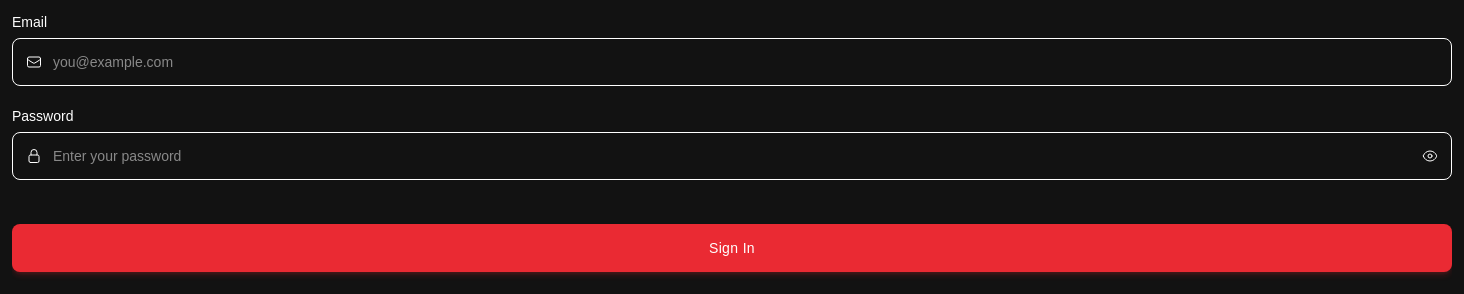
Test: LoginForm › disables submit button while submitting
Step 1. Type "a@b.com" into the field with placeholder "you@example.com" → coordinates (732, 62), box [12,38,1452,86]
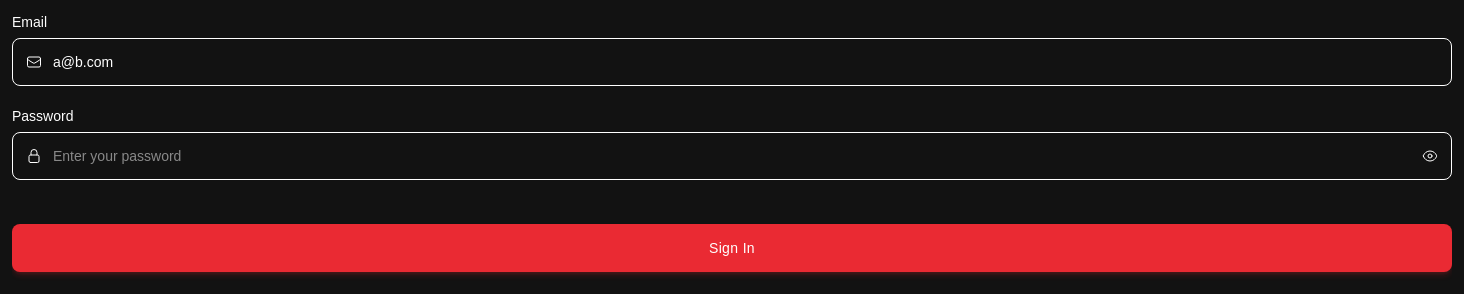
Step 2. Type "secret" into the password field with placeholder "Enter your password" → coordinates (732, 156), box [12,132,1452,180]
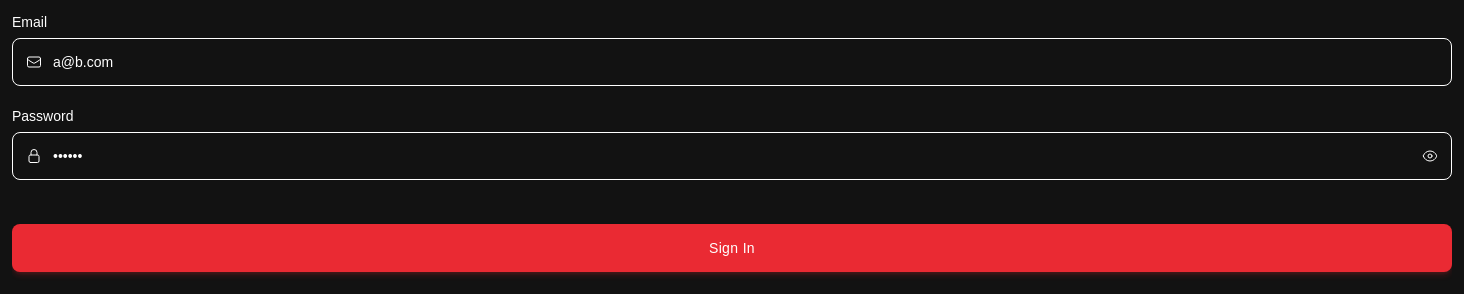
Step 3. Click the button "Sign In" → coordinates (732, 248), box [12,224,1452,272]
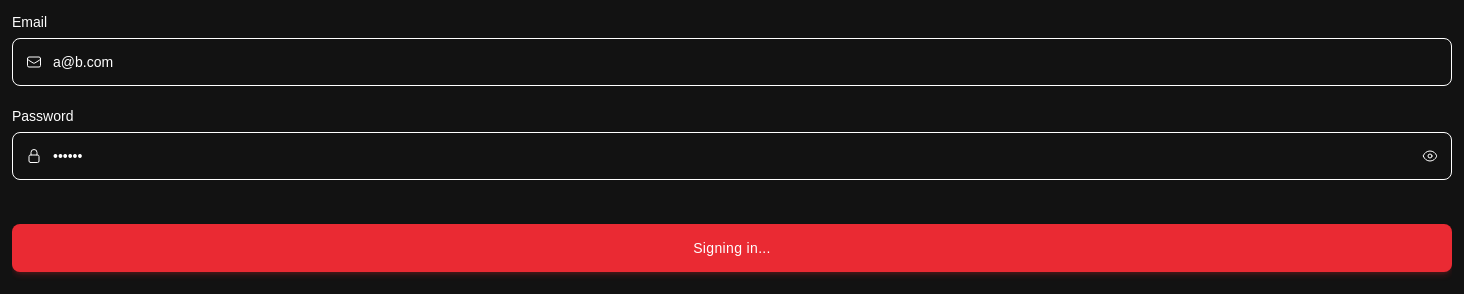
Check: the button "Signing in..." is disabled, box [12,224,1452,272]
